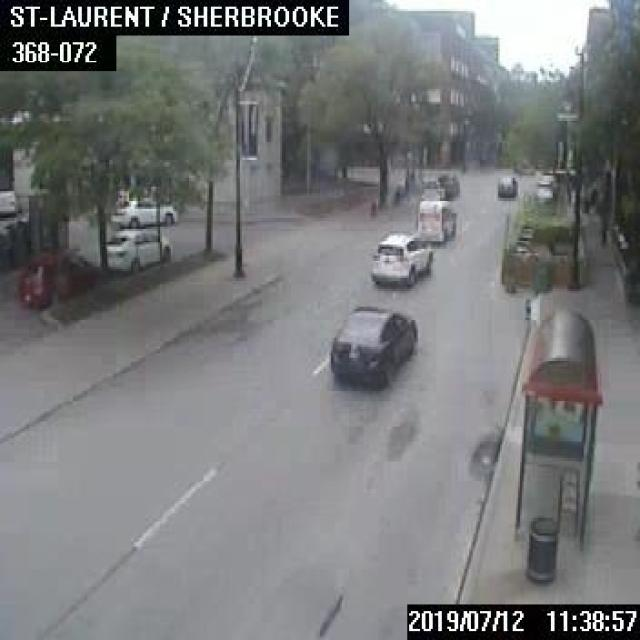vehicle: (326, 300, 416, 382), (369, 232, 432, 284), (104, 227, 170, 270), (112, 190, 176, 228), (416, 196, 455, 241), (421, 170, 459, 198), (533, 173, 555, 202), (0, 187, 18, 216), (494, 176, 514, 196)
